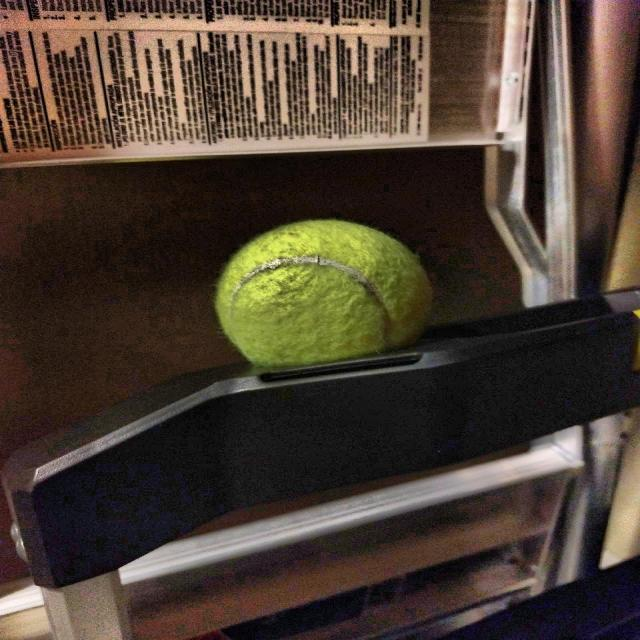tennis-ball: (217, 215, 447, 379)
